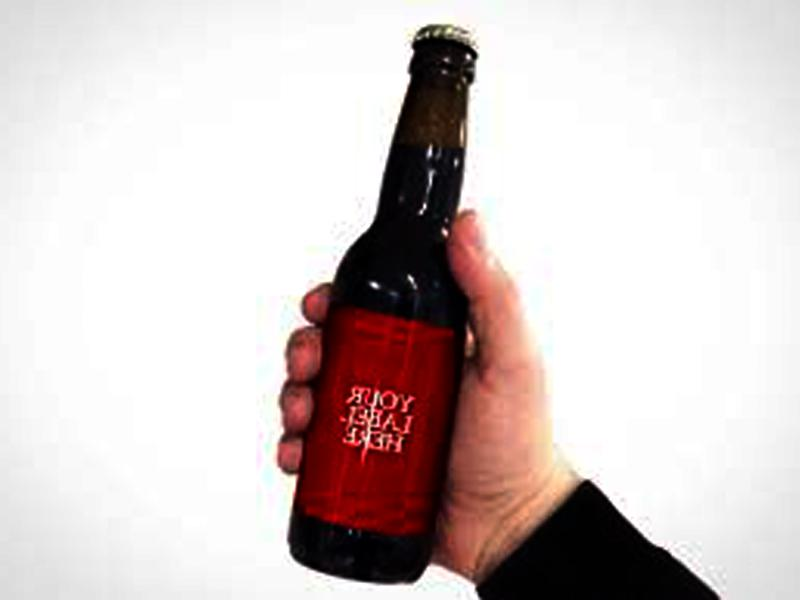Beer: (286, 22, 481, 582)
